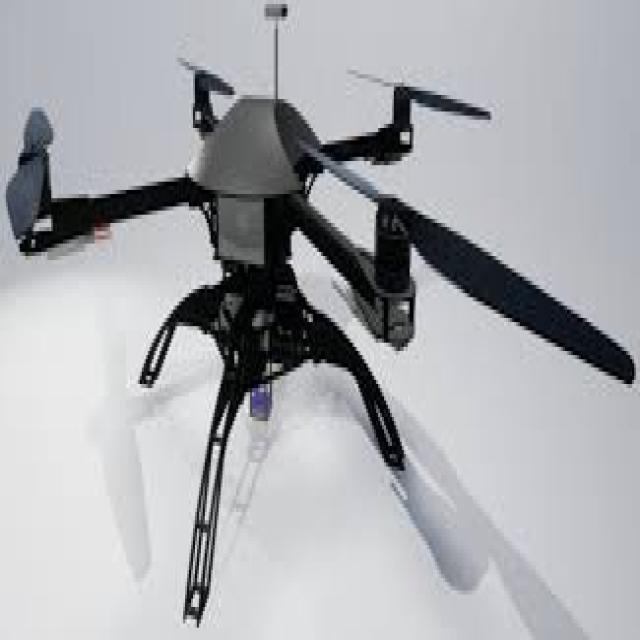drone: (32, 12, 582, 590)
